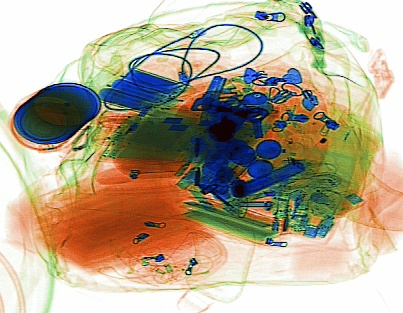powerbank: (95, 61, 192, 118)
